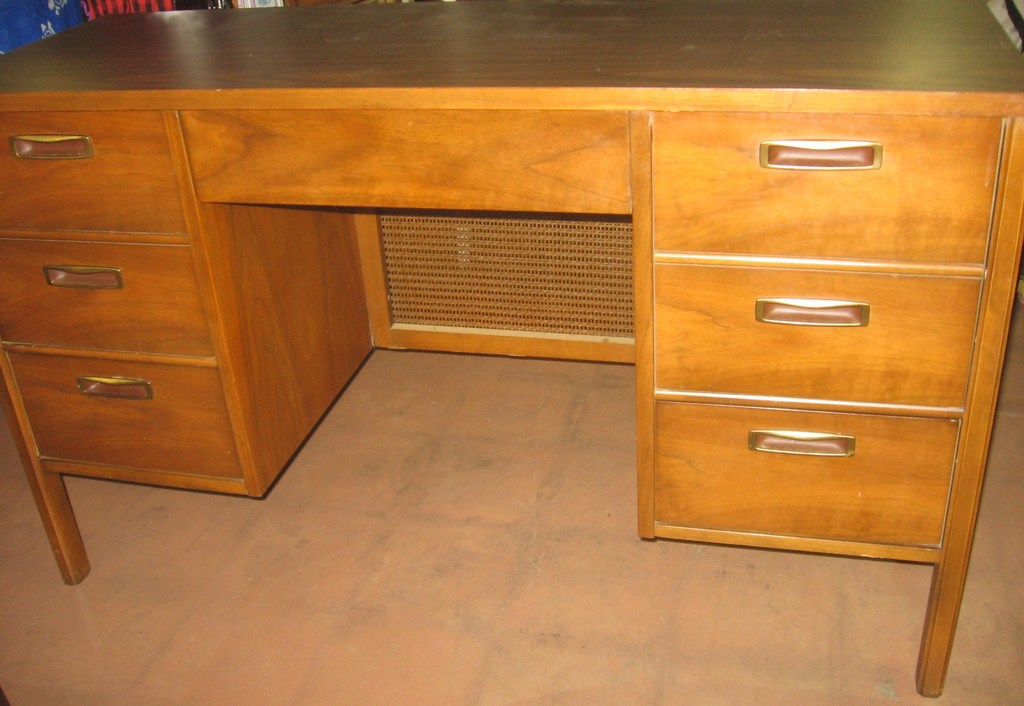cabinet door: (646, 114, 999, 267), (652, 263, 982, 420), (650, 401, 954, 550), (6, 344, 246, 486), (0, 240, 230, 350), (0, 121, 218, 233)
handle: (756, 131, 884, 175), (753, 299, 882, 337), (739, 429, 862, 465), (39, 258, 132, 293), (83, 372, 161, 407), (12, 138, 94, 165)
